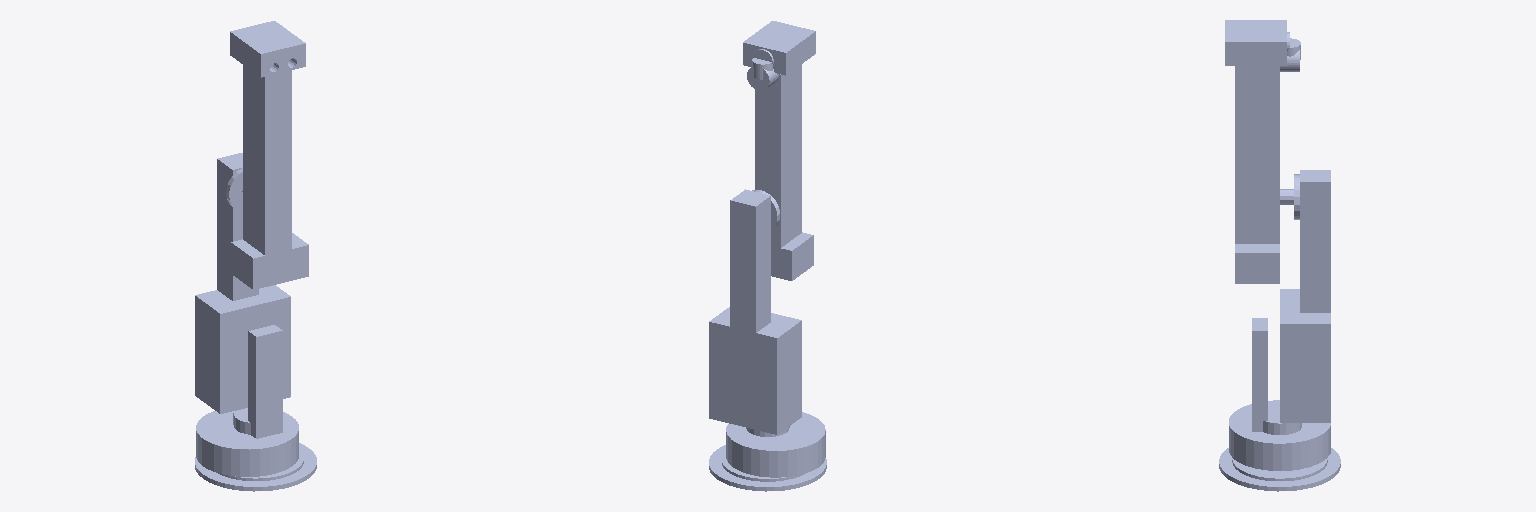
URDF robot description (edwin):
<robot
  name="edwin">
  <link
    name="base_link">
    <inertial>
      <origin
        xyz="-3.7358E-35 -2.529E-18 0.0088139"
        rpy="0 0 0" />
      <mass
        value="1.1856" />
      <inertia
        ixx="0.0059712"
        ixy="4.603E-36"
        ixz="3.0666E-36"
        iyy="0.0059712"
        iyz="-3.325E-19"
        izz="0.011871" />
    </inertial>
    <visual>
      <origin
        xyz="0 0 0"
        rpy="0 0 0" />
      <geometry>
        <mesh
          filename="package://edwin_description/meshes/base_link.STL" />
      </geometry>
      <material
        name="">
        <color
          rgba="0.79216 0.81961 0.93333 1" />
      </material>
    </visual>
    <collision>
      <origin
        xyz="0 0 0"
        rpy="0 0 0" />
      <geometry>
        <mesh
          filename="package://edwin_description/meshes/base_link.STL" />
      </geometry>
    </collision>
  </link>
  <link
    name="link_1">
    <inertial>
      <origin
        xyz="-0.018367 -0.0077664 0.069822"
        rpy="0 0 0" />
      <mass
        value="4.8214" />
      <inertia
        ixx="0.044516"
        ixy="-0.00066637"
        ixz="0.0028019"
        iyy="0.04368"
        iyz="-0.0055911"
        izz="0.03291" />
    </inertial>
    <visual>
      <origin
        xyz="0 0 0"
        rpy="0 0 0" />
      <geometry>
        <mesh
          filename="package://edwin_description/meshes/link_1.STL" />
      </geometry>
      <material
        name="">
        <color
          rgba="0.79216 0.81961 0.93333 1" />
      </material>
    </visual>
    <collision>
      <origin
        xyz="0 0 0"
        rpy="0 0 0" />
      <geometry>
        <mesh
          filename="package://edwin_description/meshes/link_1.STL" />
      </geometry>
    </collision>
  </link>
  <joint
    name="waist"
    type="continuous">
    <origin
      xyz="0 0 0.0332679193608537"
      rpy="-6.12303176911189E-17 0 0" />
    <parent
      link="base_link" />
    <child
      link="link_1" />
    <axis
      xyz="0 0 -1" />
  </joint>
  <link
    name="link_2">
    <inertial>
      <origin
        xyz="-0.022066 -4.0835E-17 0.067318"
        rpy="0 0 0" />
      <mass
        value="9.0027" />
      <inertia
        ixx="0.034679"
        ixy="-8.4905E-17"
        ixz="-0.009359"
        iyy="0.25195"
        iyz="-2.7279E-18"
        izz="0.26459" />
    </inertial>
    <visual>
      <origin
        xyz="0 0 0"
        rpy="0 0 0" />
      <geometry>
        <mesh
          filename="package://edwin_description/meshes/link_2.STL" />
      </geometry>
      <material
        name="">
        <color
          rgba="0.79216 0.81961 0.93333 1" />
      </material>
    </visual>
    <collision>
      <origin
        xyz="0 0 0"
        rpy="0 0 0" />
      <geometry>
        <mesh
          filename="package://edwin_description/meshes/link_2.STL" />
      </geometry>
    </collision>
  </link>
  <joint
    name="shoulder"
    type="continuous">
    <origin
      xyz="0 0 0.32173"
      rpy="1.5708 1.5708 3.1416" />
    <parent
      link="link_1" />
    <child
      link="link_2" />
    <axis
      xyz="0 0 1" />
  </joint>
  <link
    name="link_3">
    <inertial>
      <origin
        xyz="-0.066663 -0.0021716 -0.055074"
        rpy="0 0 0" />
      <mass
        value="5.6787" />
      <inertia
        ixx="0.010806"
        ixy="-0.0027104"
        ixz="-3.0213E-18"
        iyy="0.19386"
        iyz="3.8756E-18"
        izz="0.19319" />
    </inertial>
    <visual>
      <origin
        xyz="0 0 0"
        rpy="0 0 0" />
      <geometry>
        <mesh
          filename="package://edwin_description/meshes/link_3.STL" />
      </geometry>
      <material
        name="">
        <color
          rgba="0.79216 0.81961 0.93333 1" />
      </material>
    </visual>
    <collision>
      <origin
        xyz="0 0 0"
        rpy="0 0 0" />
      <geometry>
        <mesh
          filename="package://edwin_description/meshes/link_3.STL" />
      </geometry>
    </collision>
  </link>
  <joint
    name="elbow"
    type="continuous">
    <origin
      xyz="-0.375 0 0"
      rpy="0 0 -1.1442E-17" />
    <parent
      link="link_2" />
    <child
      link="link_3" />
    <axis
      xyz="0 0 1" />
  </joint>
  <link
    name="link_4">
    <inertial>
      <origin
        xyz="0.00548 2.769E-08 -0.0244"
        rpy="0 0 0" />
      <mass
        value="0.20197" />
      <inertia
        ixx="9.4725E-05"
        ixy="2.5567E-10"
        ixz="3.3235E-21"
        iyy="0.00012085"
        iyz="3.6338E-10"
        izz="0.00013378" />
    </inertial>
    <visual>
      <origin
        xyz="0 0 0"
        rpy="0 0 0" />
      <geometry>
        <mesh
          filename="package://edwin_description/meshes/link_4.STL" />
      </geometry>
      <material
        name="">
        <color
          rgba="0.79216 0.81961 0.93333 1" />
      </material>
    </visual>
    <collision>
      <origin
        xyz="0 0 0"
        rpy="0 0 0" />
      <geometry>
        <mesh
          filename="package://edwin_description/meshes/link_4.STL" />
      </geometry>
    </collision>
  </link>
  <joint
    name="hand"
    type="continuous">
    <origin
      xyz="-0.375 0 0"
      rpy="3.1416 0 3.1416" />
    <parent
      link="link_3" />
    <child
      link="link_4" />
    <axis
      xyz="0 0 -1" />
  </joint>
  <link
    name="link_5">
    <inertial>
      <origin
        xyz="-3.4694E-18 0.0012909 0.055026"
        rpy="0 0 0" />
      <mass
        value="1.0129" />
      <inertia
        ixx="0.0017672"
        ixy="9.4126E-20"
        ixz="-1.4609E-20"
        iyy="0.0017689"
        iyz="3.5992E-05"
        izz="0.0017382" />
    </inertial>
    <visual>
      <origin
        xyz="0 0 0"
        rpy="0 0 0" />
      <geometry>
        <mesh
          filename="package://edwin_description/meshes/link_5.STL" />
      </geometry>
      <material
        name="">
        <color
          rgba="0.79216 0.81961 0.93333 1" />
      </material>
    </visual>
    <collision>
      <origin
        xyz="0 0 0"
        rpy="0 0 0" />
      <geometry>
        <mesh
          filename="package://edwin_description/meshes/link_5.STL" />
      </geometry>
    </collision>
  </link>
  <joint
    name="wrist"
    type="continuous">
    <origin
      xyz="0.042405 0 -0.0244"
      rpy="0 -1.5708 0" />
    <parent
      link="link_4" />
    <child
      link="link_5" />
    <axis
      xyz="0 0 -1" />
  </joint>

  <transmission name="trans_1">
	  <type>transmission_interface/SimpleTransmission</type>
	  <joint name="waist">
		  <hardwareInterface>PositionJointInterface</hardwareInterface>
	  </joint>
	  <actuator name="motor_1">
		  <hardwareInterface>PositionJointInterface</hardwareInterface>
	  </actuator>
  </transmission>
  <transmission name="trans_2">
	  <type>transmission_interface/SimpleTransmission</type>
	  <joint name="shoulder">
		  <hardwareInterface>PositionJointInterface</hardwareInterface>
	  </joint>
	  <actuator name="motor_2">
		  <hardwareInterface>PositionJointInterface</hardwareInterface>
	  </actuator>
  </transmission>
  <transmission name="trans_3">
	  <type>transmission_interface/SimpleTransmission</type>
	  <joint name="elbow">
		  <hardwareInterface>PositionJointInterface</hardwareInterface>
	  </joint>
	  <actuator name="motor_3">
		  <hardwareInterface>PositionJointInterface</hardwareInterface>
	  </actuator>
  </transmission>
  <transmission name="trans_4">
	  <type>transmission_interface/SimpleTransmission</type>
	  <joint name="hand">
		  <hardwareInterface>PositionJointInterface</hardwareInterface>
	  </joint>
	  <actuator name="motor_4">
		  <hardwareInterface>PositionJointInterface</hardwareInterface>
	  </actuator>
  </transmission>
  <transmission name="trans_5">
	  <type>transmission_interface/SimpleTransmission</type>
	  <joint name="wrist">
		  <hardwareInterface>PositionJointInterface</hardwareInterface>
	  </joint>
	  <actuator name="motor_5">
		  <hardwareInterface>PositionJointInterface</hardwareInterface>
	  </actuator>
  </transmission>
</robot>

--- Render facts (derived) ---
The picture shows the robot from 3 angles, left to right: view 1: azimuth 30°, elevation 25°; view 2: azimuth 150°, elevation 25°; view 3: azimuth 270°, elevation 25°; orthographic projection.
Robot: edwin — 6 links, 5 joints (5 continuous); root link base_link; default pose: every joint at zero.
Links seen in each view (by area): view 1: link_3, link_2, link_1, link_5, base_link; view 2: link_2, link_3, link_1, link_5, base_link, link_4; view 3: link_2, link_3, link_1, link_5, base_link.
Link boxes in pixels (left/top/right/bottom): link_3: left=231, top=63, right=308, bottom=289; link_2: left=195, top=153, right=290, bottom=413; link_1: left=196, top=325, right=298, bottom=476; link_5: left=230, top=21, right=305, bottom=77; base_link: left=195, top=443, right=316, bottom=491; link_2: left=709, top=189, right=801, bottom=434; link_3: left=755, top=64, right=813, bottom=280; link_1: left=726, top=412, right=825, bottom=477; link_5: left=743, top=21, right=815, bottom=75; base_link: left=709, top=445, right=826, bottom=491; link_4: left=747, top=58, right=778, bottom=90; link_2: left=1280, top=170, right=1330, bottom=422; link_3: left=1235, top=66, right=1279, bottom=283; link_1: left=1229, top=318, right=1330, bottom=470; link_5: left=1225, top=20, right=1289, bottom=65; base_link: left=1219, top=448, right=1340, bottom=491.
Size in the robot's own frame: 0.2998 by 0.3 by 1.18 metres.
Meshes: 6 distinct files referenced, 6 mesh visuals loaded (6 binary STL).
